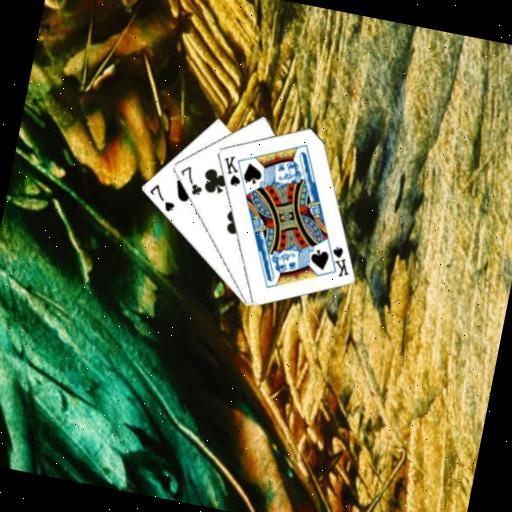7C: (174, 162, 208, 199)
7S: (143, 179, 180, 215)
KS: (320, 241, 355, 280), (216, 151, 247, 189)
